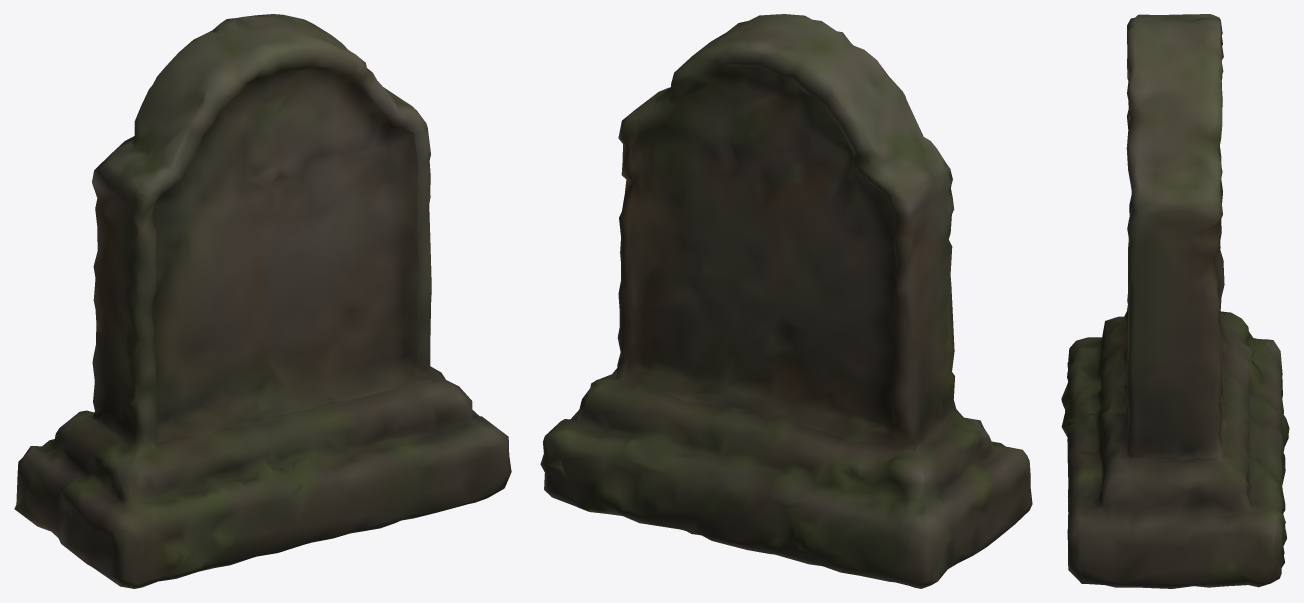
The model's file is Tombstone_04.fbx.
The picture shows the model from 3 angles, left to right: view 1: azimuth 30°, elevation 25°; view 2: azimuth 150°, elevation 25°; view 3: azimuth 270°, elevation 25°; orthographic projection.
Visible parts, largest first — view 1: Tombstone_04; view 2: Tombstone_04; view 3: Tombstone_04.
Boxes of the visible parts, left/top/right/bottom form: Tombstone_04: left=14, top=14, right=511, bottom=588; Tombstone_04: left=540, top=14, right=1032, bottom=588; Tombstone_04: left=1061, top=14, right=1289, bottom=588.
Size of what is drawn, in the model's own units: 106 by 122 by 53.01.
